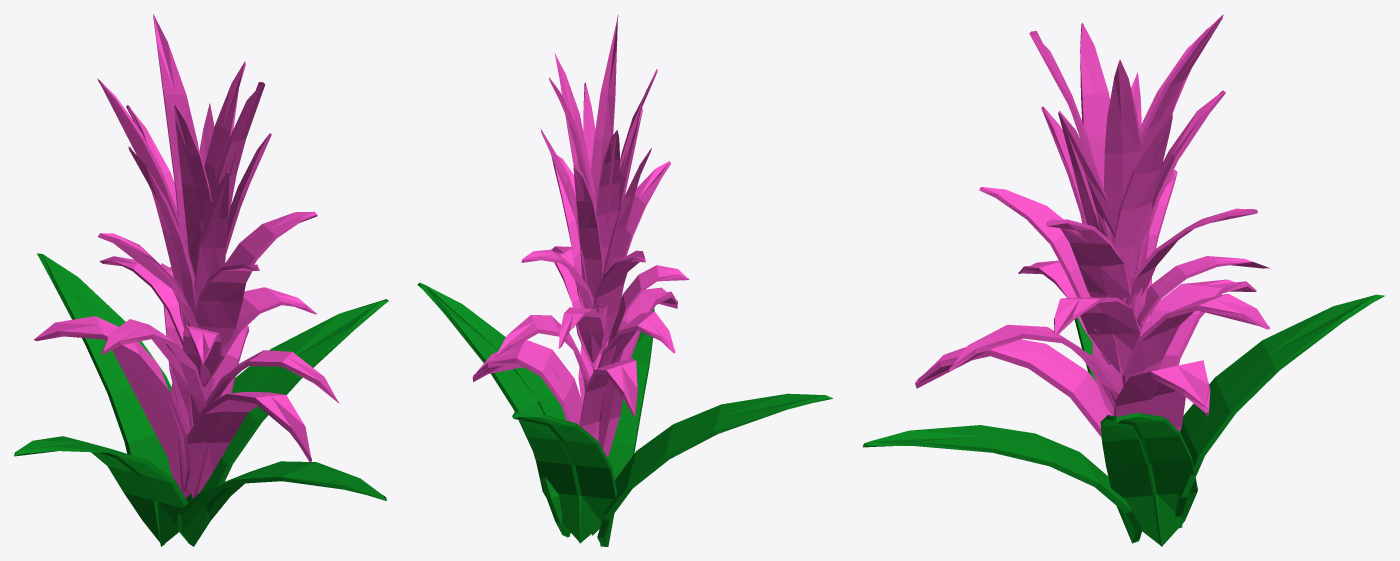
The model's file is ShrubPinkFlower01.fbx.
3 renders of one model, left to right at view 1: azimuth 30°, elevation 25°; view 2: azimuth 150°, elevation 25°; view 3: azimuth 270°, elevation 25°, orthographic. The views are drawn at different scales.
Parts seen in each view (by area): view 1: ShrubPinkFlower01_LOD0; view 2: ShrubPinkFlower01_LOD0; view 3: ShrubPinkFlower01_LOD0.
Part boxes in pixels (x1=…): ShrubPinkFlower01_LOD0: x1=14, y1=14, x2=388, y2=546; ShrubPinkFlower01_LOD0: x1=417, y1=14, x2=832, y2=546; ShrubPinkFlower01_LOD0: x1=862, y1=14, x2=1384, y2=546.
Size of what is drawn, in the model's own units: 93.3 by 111 by 99.4.
